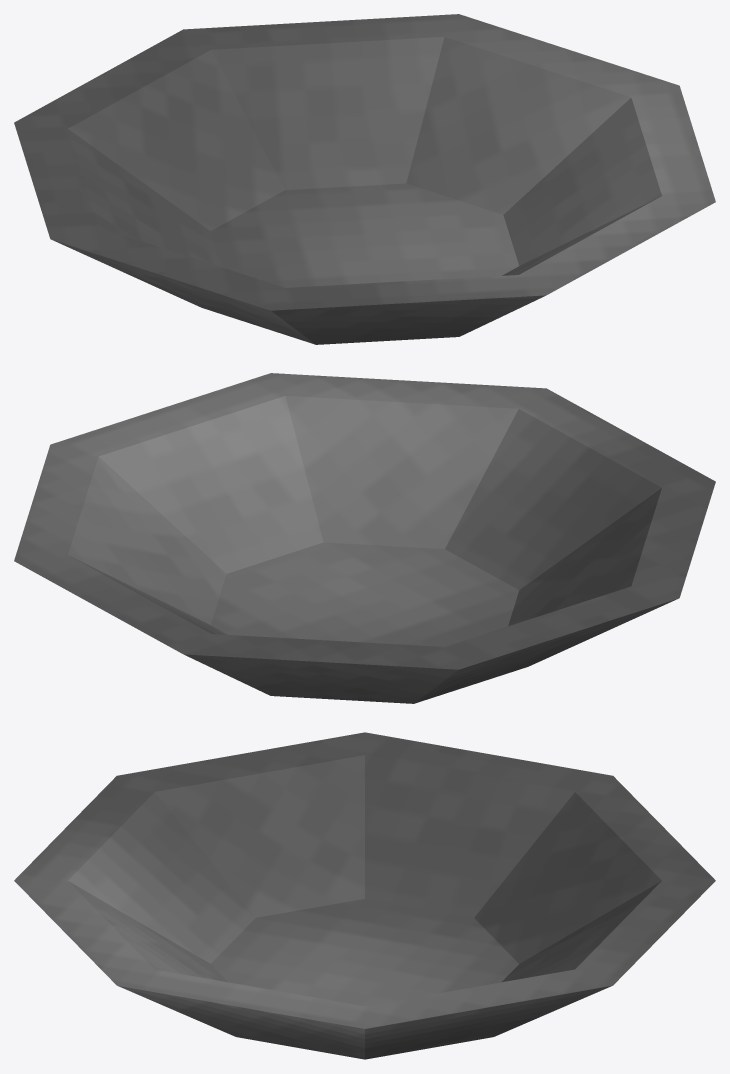
File: tarelka.fbx
3 renders of one model, top to bottom at view 1: azimuth 30°, elevation 25°; view 2: azimuth 150°, elevation 25°; view 3: azimuth 270°, elevation 25°, orthographic. The views are drawn at different scales.
Visible parts, largest first — view 1: Torus.001; view 2: Torus.001; view 3: Torus.001.
Part boxes in pixels (x1=…): Torus.001: x1=14, y1=14, x2=715, y2=344; Torus.001: x1=14, y1=373, x2=715, y2=703; Torus.001: x1=14, y1=732, x2=715, y2=1059.
Bounding box in the file's own units: 73.63 × 11.79 × 73.63.
